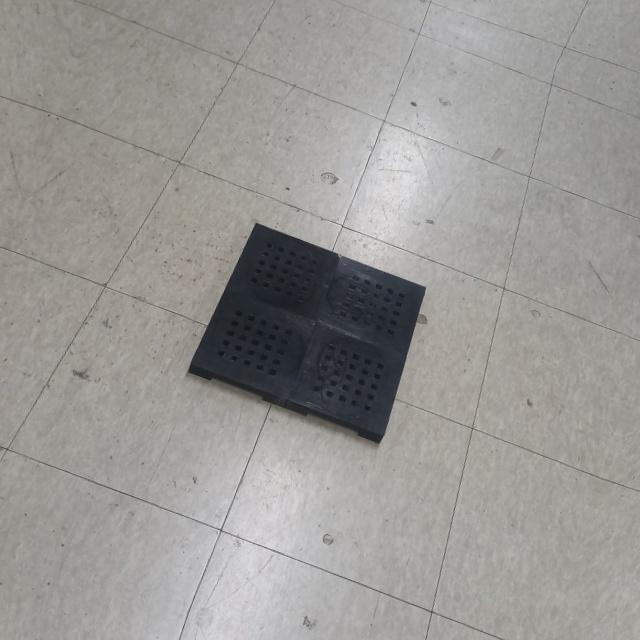pallet: (178, 212, 448, 455)
